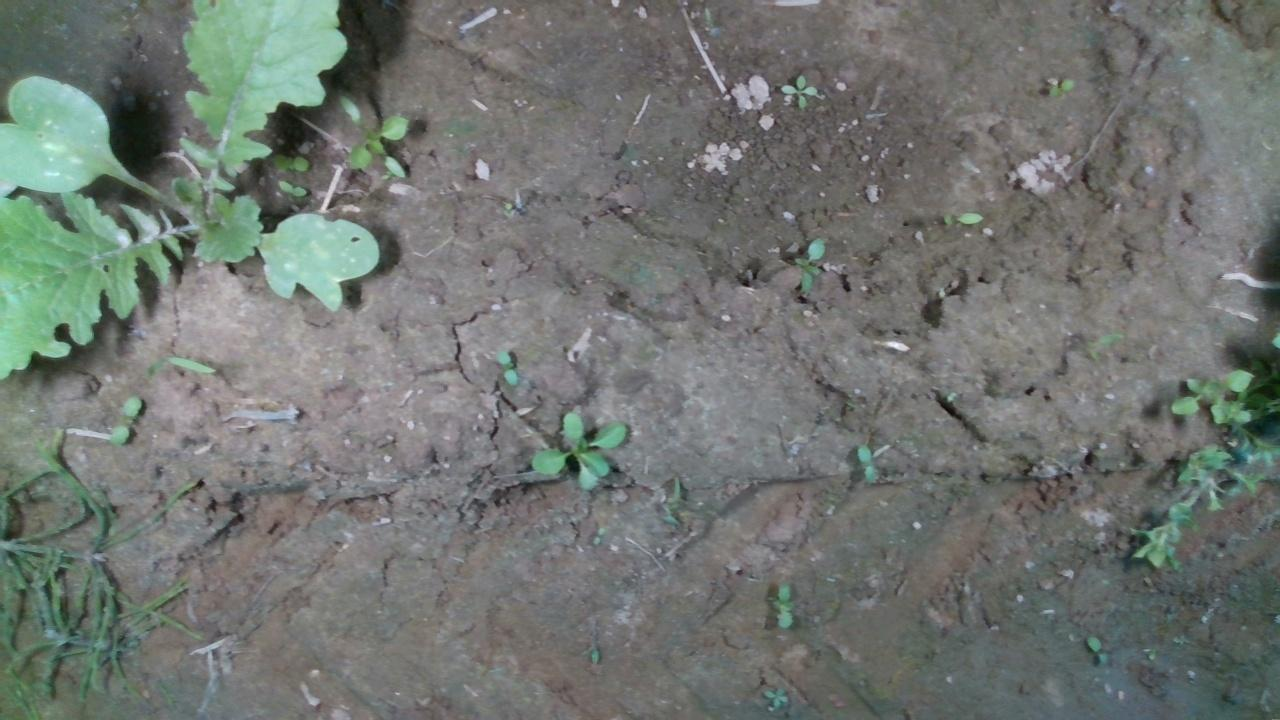weed: (792, 236, 826, 295), (106, 394, 143, 447), (777, 71, 818, 108), (493, 346, 519, 386), (774, 580, 794, 629), (856, 441, 878, 483), (1085, 633, 1108, 665), (939, 210, 984, 225), (275, 177, 308, 197), (1046, 76, 1076, 98), (762, 685, 788, 707)
